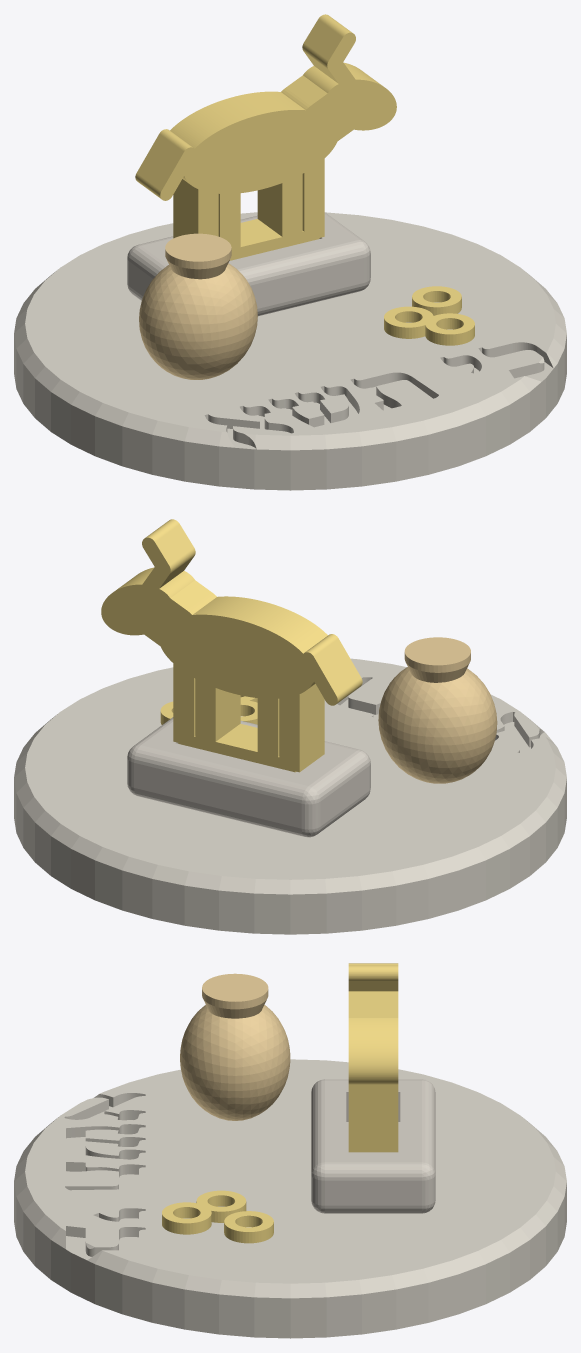
Rendered from ki-tisa.glb.
3 views of the same model, one above another, from view 1: azimuth 30°, elevation 25°; view 2: azimuth 150°, elevation 25°; view 3: azimuth 270°, elevation 25° (orthographic).
Parts seen in each view (by area): view 1: stage, calf, bag, pedestal, earring-3, earring-1, earring-2; view 2: stage, calf, pedestal, bag; view 3: stage, pedestal, bag, calf, earring-2, earring-3, earring-1.
Part boxes in pixels (bbox=[...]): stage: bbox=[14, 212, 566, 490]; calf: bbox=[135, 14, 396, 260]; bag: bbox=[139, 233, 257, 379]; pedestal: bbox=[127, 212, 370, 316]; earring-3: bbox=[425, 313, 474, 345]; earring-1: bbox=[384, 306, 433, 338]; earring-2: bbox=[412, 286, 461, 315]; stage: bbox=[14, 658, 566, 934]; calf: bbox=[101, 519, 362, 772]; pedestal: bbox=[127, 717, 370, 837]; bag: bbox=[378, 637, 497, 783]; stage: bbox=[14, 1059, 566, 1338]; pedestal: bbox=[311, 1079, 435, 1213]; bag: bbox=[180, 973, 290, 1120]; calf: bbox=[348, 963, 398, 1152]; earring-2: bbox=[224, 1211, 273, 1243]; earring-3: bbox=[162, 1202, 211, 1234]; earring-1: bbox=[196, 1190, 246, 1222].
Size of the model in its own units: 40 by 23.8 by 40.
